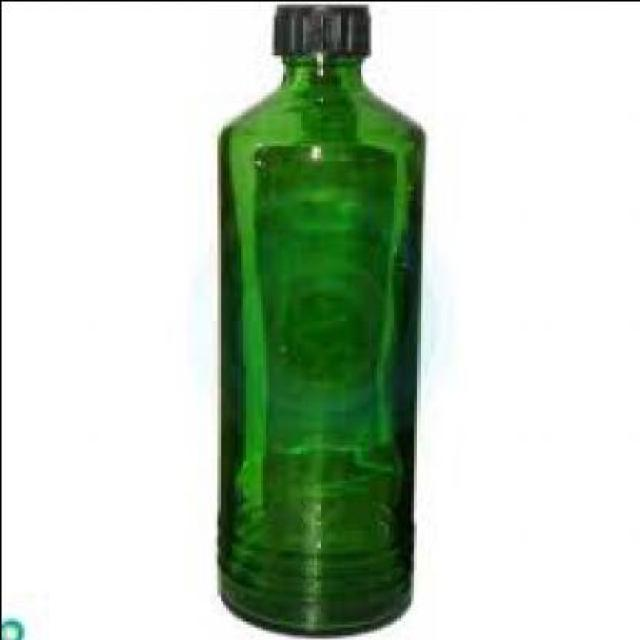GLASS: (216, 51, 427, 634)
PLASTIC: (274, 2, 374, 52)
